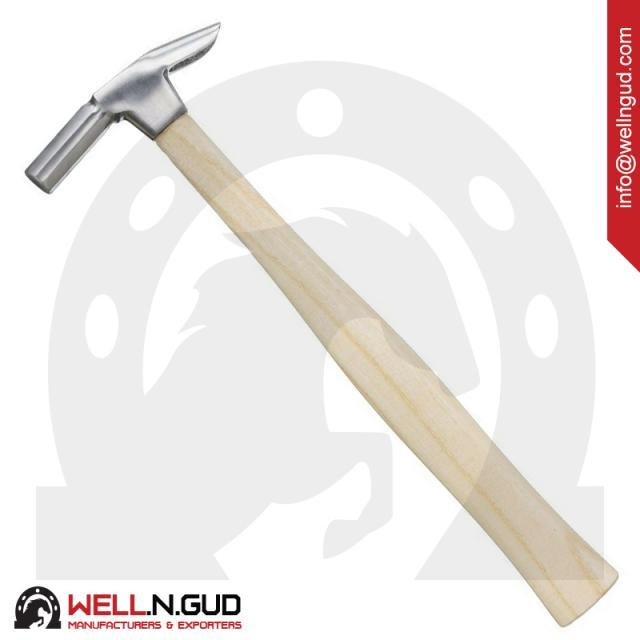hammer: (18, 18, 626, 640)
